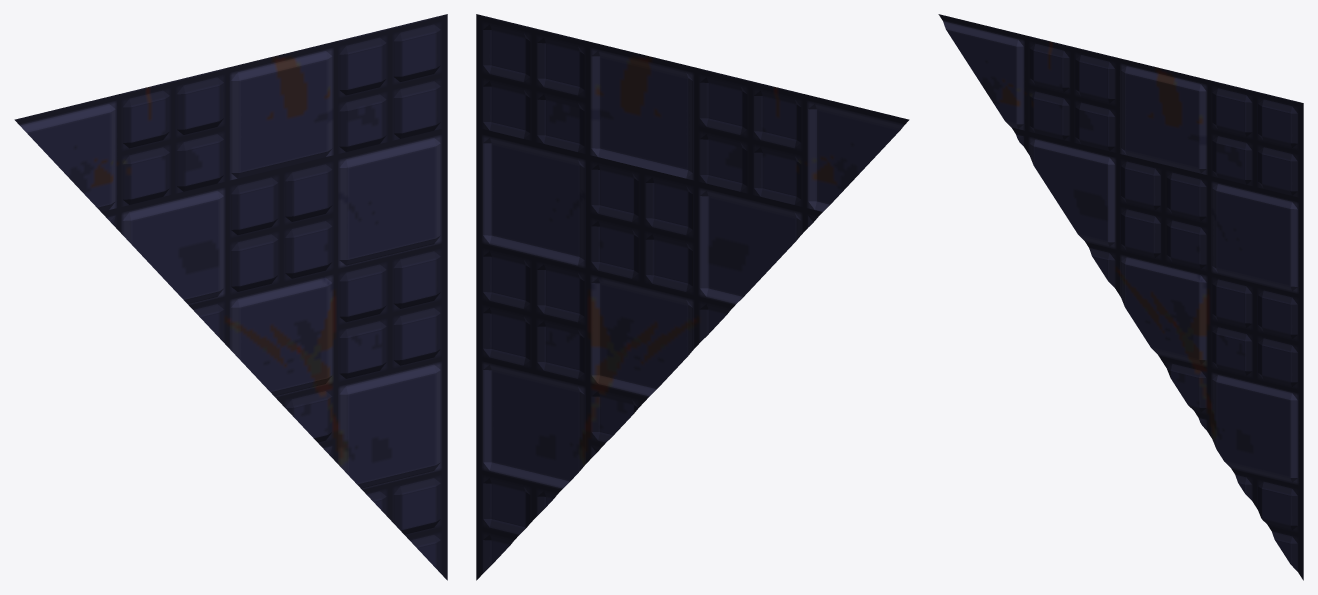
The model's file is med1_7_slice45_320rh.fbx.
3 views of the same model, side by side, from view 1: azimuth 30°, elevation 25°; view 2: azimuth 150°, elevation 25°; view 3: azimuth 330°, elevation 25° (orthographic). The views are drawn at different scales.
Parts seen in each view (by area): view 1: med1_7_mesh; view 2: med1_7_mesh; view 3: med1_7_mesh.
Boxes of the visible parts, left/top/right/bottom form: med1_7_mesh: left=14, top=14, right=447, bottom=580; med1_7_mesh: left=476, top=14, right=909, bottom=580; med1_7_mesh: left=938, top=14, right=1303, bottom=580.
Size of the model in its own units: 256 by 320 by 2.
